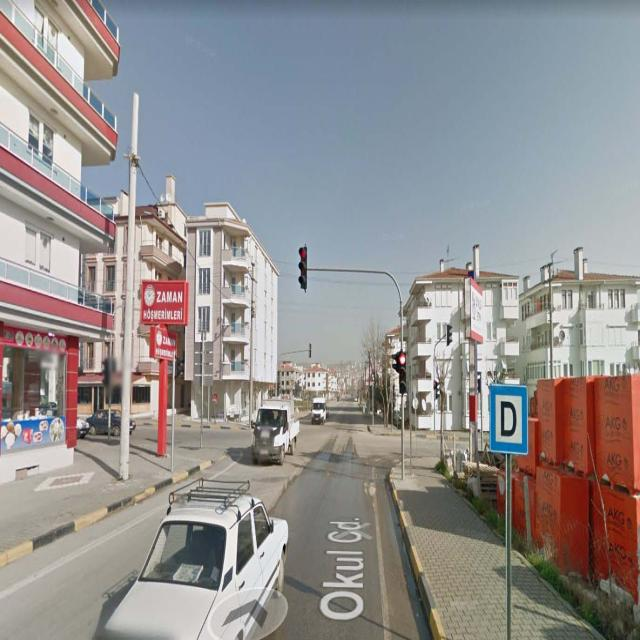durak: (489, 382, 528, 455)
kirmizi: (299, 248, 307, 291), (400, 352, 407, 392)
